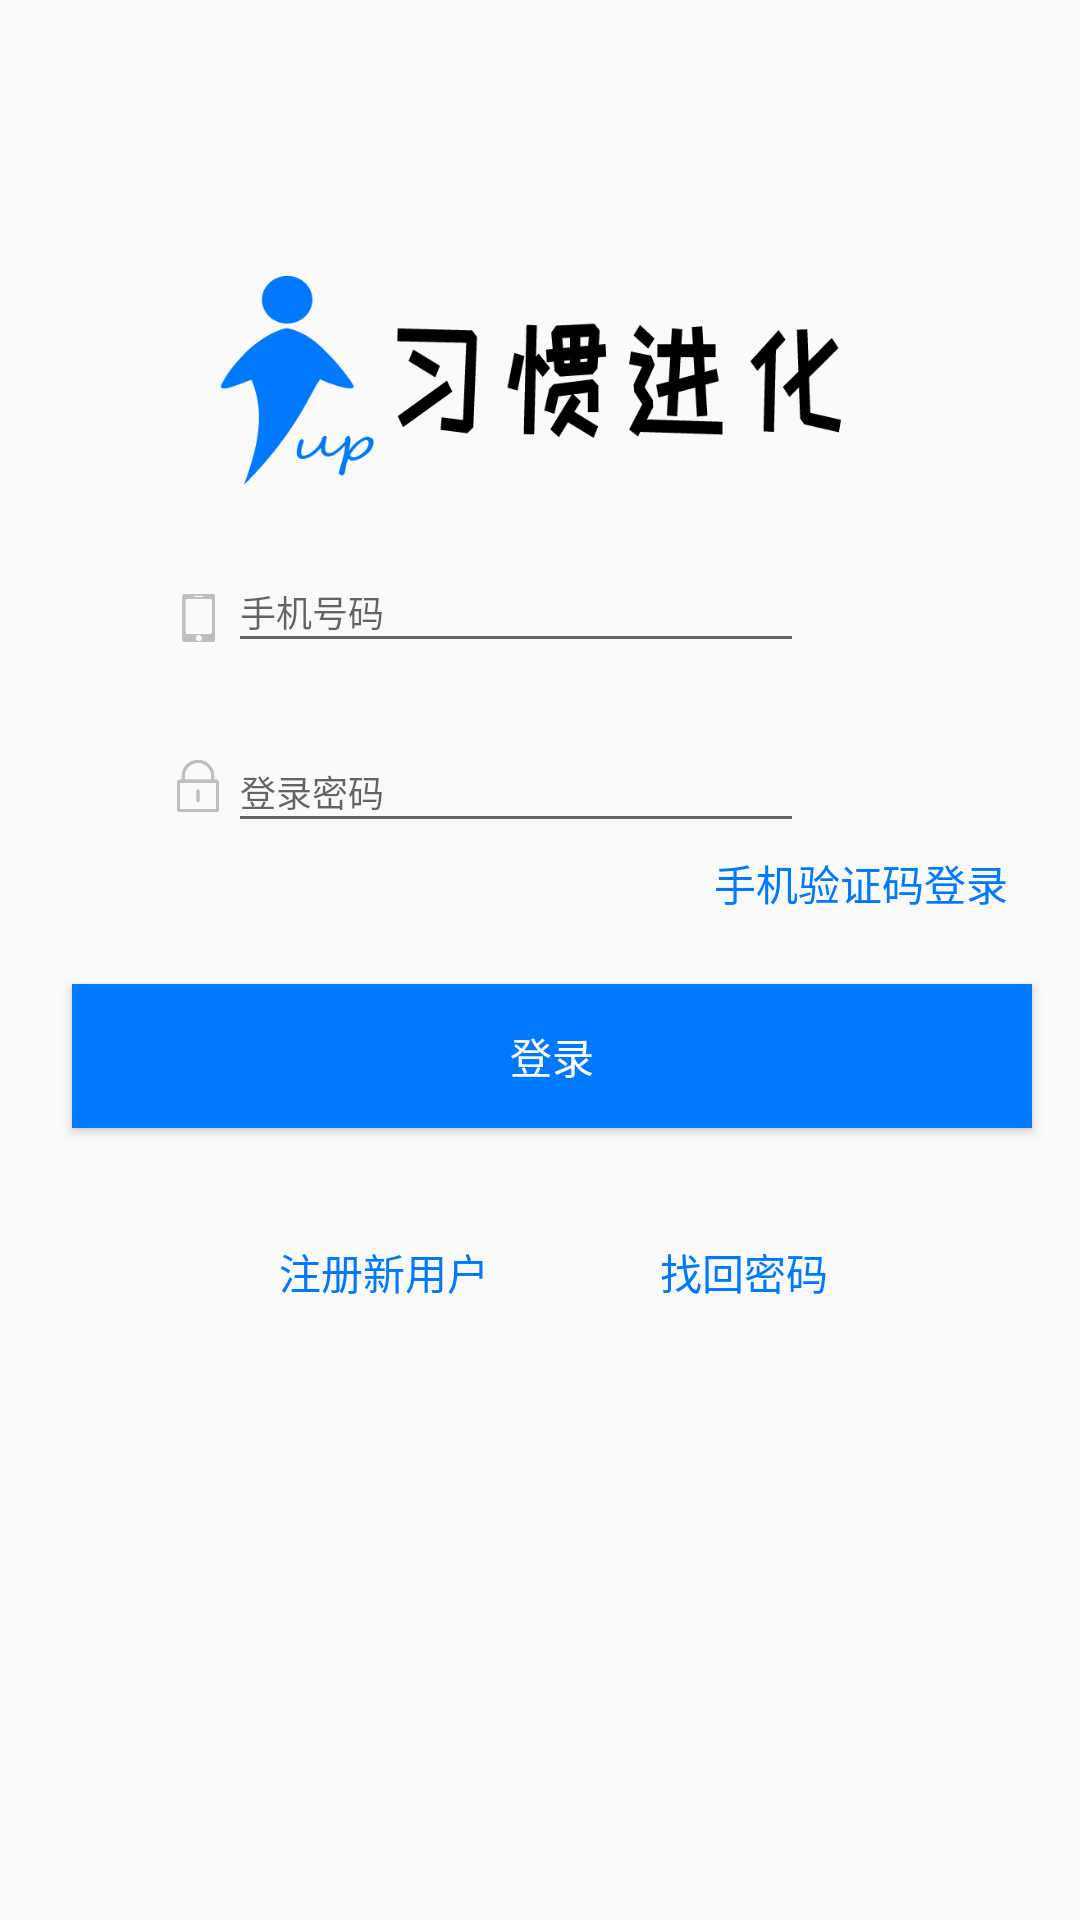

Point at icon controls on the screen. Image size 1080×1920, points as (x,y).
passwage: (198,786)
phone: (198,618)
